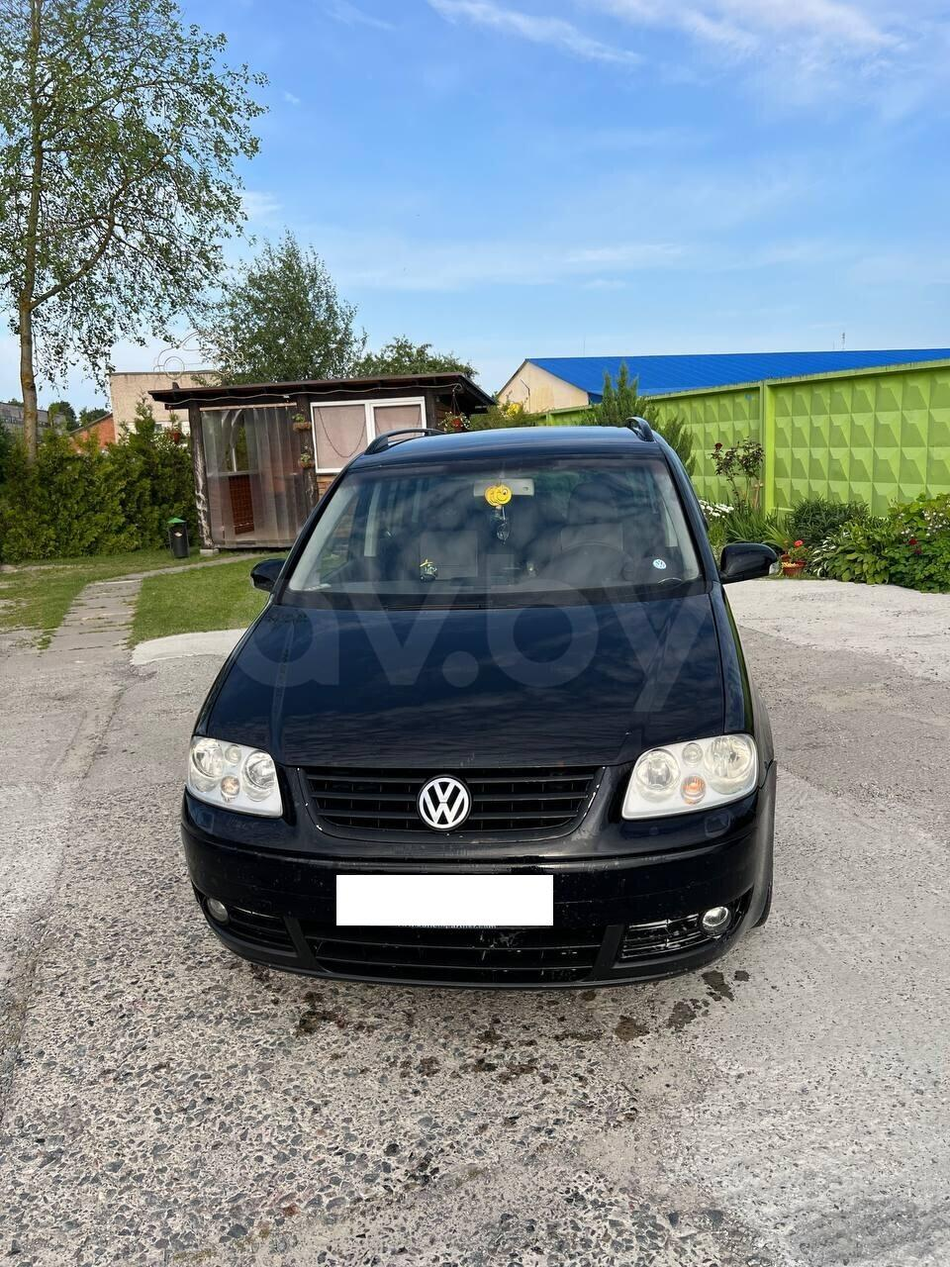Touran_2003-2006: (178, 426, 775, 987)
